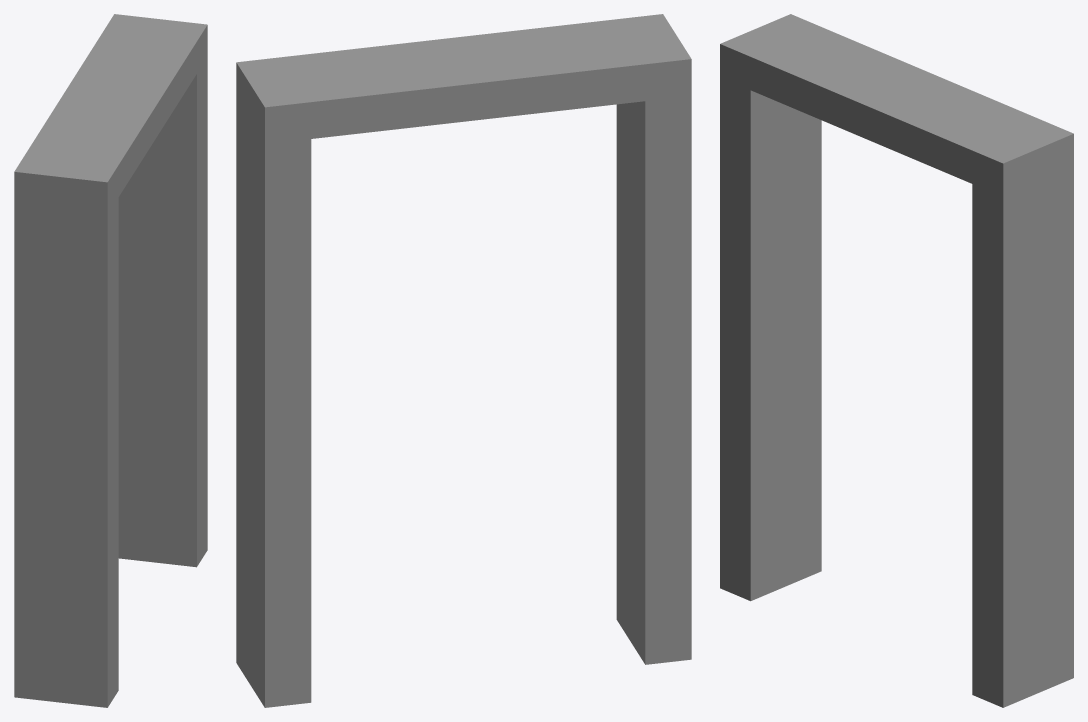
File: SM_Hub_Doorway_03.fbx
3 renders of one model, left to right at view 1: azimuth 30°, elevation 25°; view 2: azimuth 150°, elevation 25°; view 3: azimuth 270°, elevation 25°, orthographic. The views are drawn at different scales.
Visible parts, largest first — view 1: SM_Hub_Doorway_03; view 2: SM_Hub_Doorway_03; view 3: SM_Hub_Doorway_03.
Part boxes in pixels (x1,y1,x2,y2): SM_Hub_Doorway_03: [14, 14, 207, 707]; SM_Hub_Doorway_03: [236, 14, 691, 707]; SM_Hub_Doorway_03: [720, 14, 1073, 707].
Size of the model in its own units: 1.77 by 3 by 1.77.
